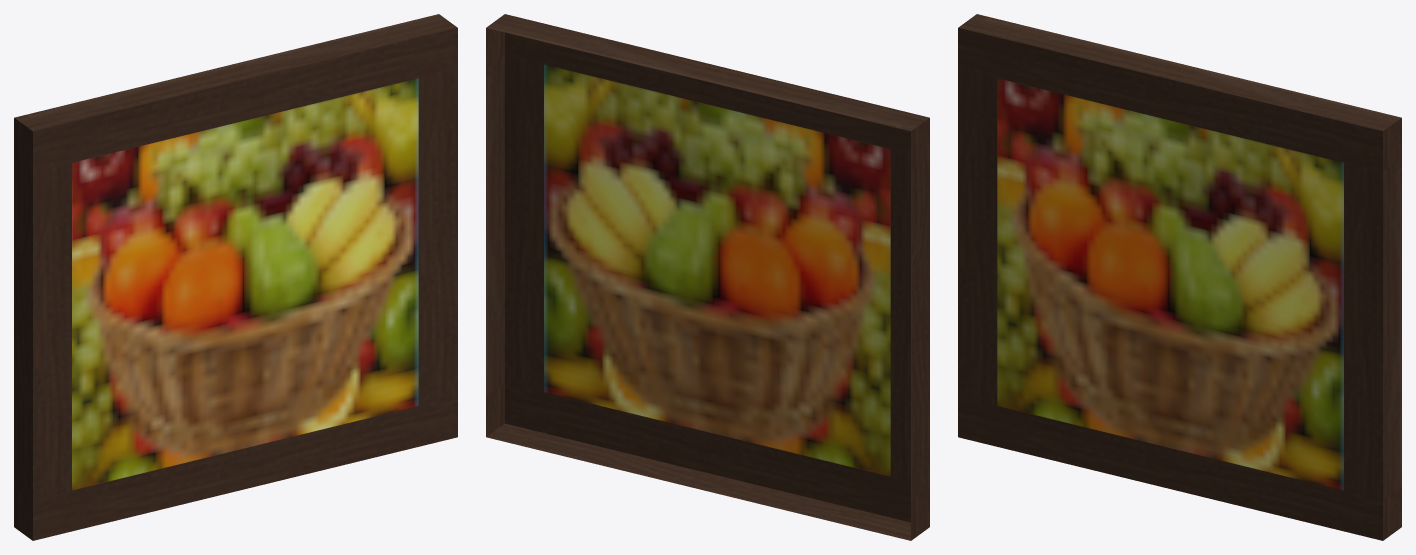
File: Paint_9.fbx
3 renders of one model, left to right at view 1: azimuth 30°, elevation 25°; view 2: azimuth 150°, elevation 25°; view 3: azimuth 330°, elevation 25°, orthographic.
Visible parts, largest first — view 1: polySurface1564; view 2: polySurface1564; view 3: polySurface1564.
Part boxes in pixels (<box>): polySurface1564: <box>14,14,457,540</box>; polySurface1564: <box>486,14,929,540</box>; polySurface1564: <box>958,14,1401,540</box>.
Bounding box in the file's own units: 1.04 × 0.9608 × 0.08.
